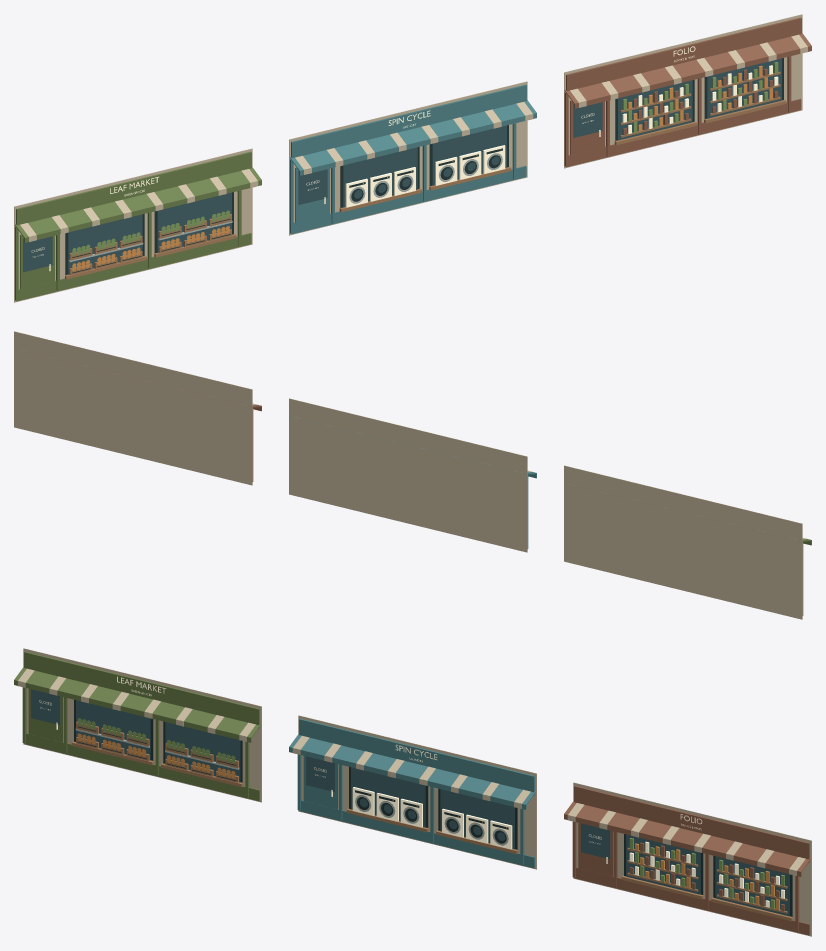
Rendered from neighborhood-fronts.glb.
3 renders of one model, top to bottom at view 1: azimuth 30°, elevation 25°; view 2: azimuth 150°, elevation 25°; view 3: azimuth 330°, elevation 25°, orthographic.
Visible parts, largest first — view 1: leaf-market_lod0, spin-cycle_lod0, folio_lod0; view 2: folio_lod0, spin-cycle_lod0, leaf-market_lod0; view 3: folio_lod0, spin-cycle_lod0, leaf-market_lod0.
Boxes of the visible parts, x1,y1,x2,y2 form: leaf-market_lod0: [14, 148, 261, 302]; spin-cycle_lod0: [289, 81, 536, 235]; folio_lod0: [564, 14, 811, 168]; folio_lod0: [14, 331, 261, 485]; spin-cycle_lod0: [289, 398, 536, 552]; leaf-market_lod0: [564, 465, 811, 619]; folio_lod0: [564, 782, 811, 936]; spin-cycle_lod0: [289, 715, 536, 869]; leaf-market_lod0: [14, 648, 261, 802].
Size of what is drawn, in the model's own units: 34.4 by 4 by 0.813.
